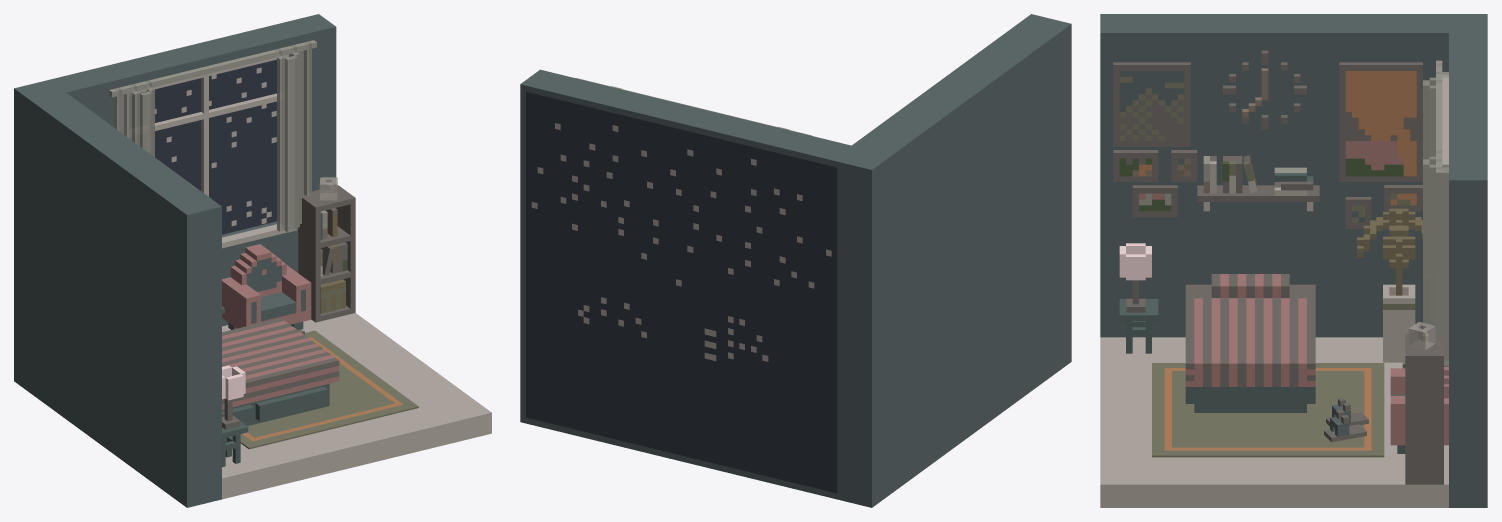
Rendered from voxel-bedroom.fbx.
The picture shows the model from 3 angles, left to right: view 1: azimuth 30°, elevation 25°; view 2: azimuth 150°, elevation 25°; view 3: azimuth 270°, elevation 25°; orthographic projection. The views are drawn at different scales.
Parts seen in each view (by area): view 1: city_0, floor_0, bed_0, curtain_0, rug_0, bookshelf2_0, couch_0, window_0, curtain_rail_0, city_lights_0, bunk_bed_0, standlight1.001_0 (+1 smaller); view 2: city_0, city_lights_0; view 3: city_0, floor_0, wallarts_0, bed_0, rug_0, bookshelf2_0, curtain_0, green_0, bookshelf_0, couch_0, table_0, slipper_0 (+4 smaller).
Part boxes in pixels (left/top/right/bottom): city_0: left=14, top=14, right=336, bottom=507; floor_0: left=222, top=313, right=491, bottom=499; bed_0: left=222, top=318, right=339, bottom=425; curtain_0: left=114, top=41, right=311, bottom=232; rug_0: left=240, top=330, right=418, bottom=449; bookshelf2_0: left=298, top=185, right=355, bottom=322; couch_0: left=222, top=244, right=311, bottom=330; window_0: left=122, top=54, right=288, bottom=248; curtain_rail_0: left=109, top=40, right=316, bottom=97; city_lights_0: left=155, top=67, right=276, bottom=226; bunk_bed_0: left=320, top=279, right=345, bottom=313; standlight1.001_0: left=222, top=365, right=245, bottom=400; city_0: left=520, top=14, right=1071, bottom=507; city_lights_0: left=531, top=123, right=831, bottom=361; city_0: left=1100, top=14, right=1487, bottom=507; floor_0: left=1100, top=337, right=1448, bottom=507; wallarts_0: left=1113, top=62, right=1422, bottom=228; bed_0: left=1185, top=274, right=1315, bottom=412; rug_0: left=1152, top=363, right=1384, bottom=457; bookshelf2_0: left=1405, top=334, right=1443, bottom=484; curtain_0: left=1423, top=63, right=1448, bottom=365; green_0: left=1357, top=208, right=1422, bottom=362; bookshelf_0: left=1197, top=156, right=1319, bottom=211; couch_0: left=1390, top=366, right=1448, bottom=453; table_0: left=1119, top=299, right=1158, bottom=353; slipper_0: left=1324, top=397, right=1368, bottom=442.
Size of the model in its own units: 610 by 560 by 600.
